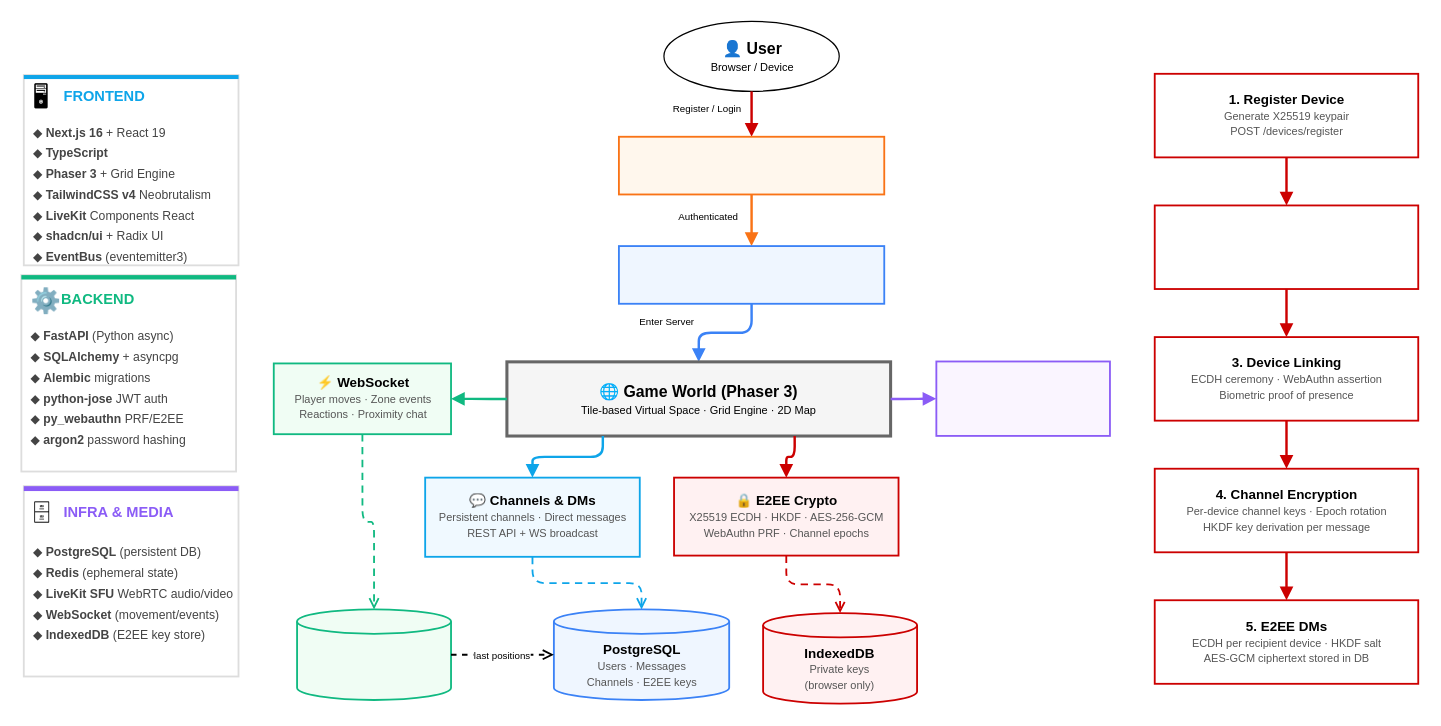
This 1441x726 diagram has some shape labels left out. The shapes that lost their labels are listed below. From the top down, each one's box as (x1, y1, x2, y2) in pixels, then its label:
(617, 135, 885, 195): 🔐 Auth JWT · argon2 · OAuth
(1153, 204, 1419, 289): 2. Key Backup WebAuthn PRF or passphrase AES-256-GCM encrypted blob
(617, 245, 885, 304): 🏠 Dashboard Browse & Join Servers
(935, 360, 1110, 436): 🎥 LiveKit SFU Proximity audio · Zone video WebRTC · RTP streams
(296, 608, 451, 700): Redis Positions · Zones Session state
